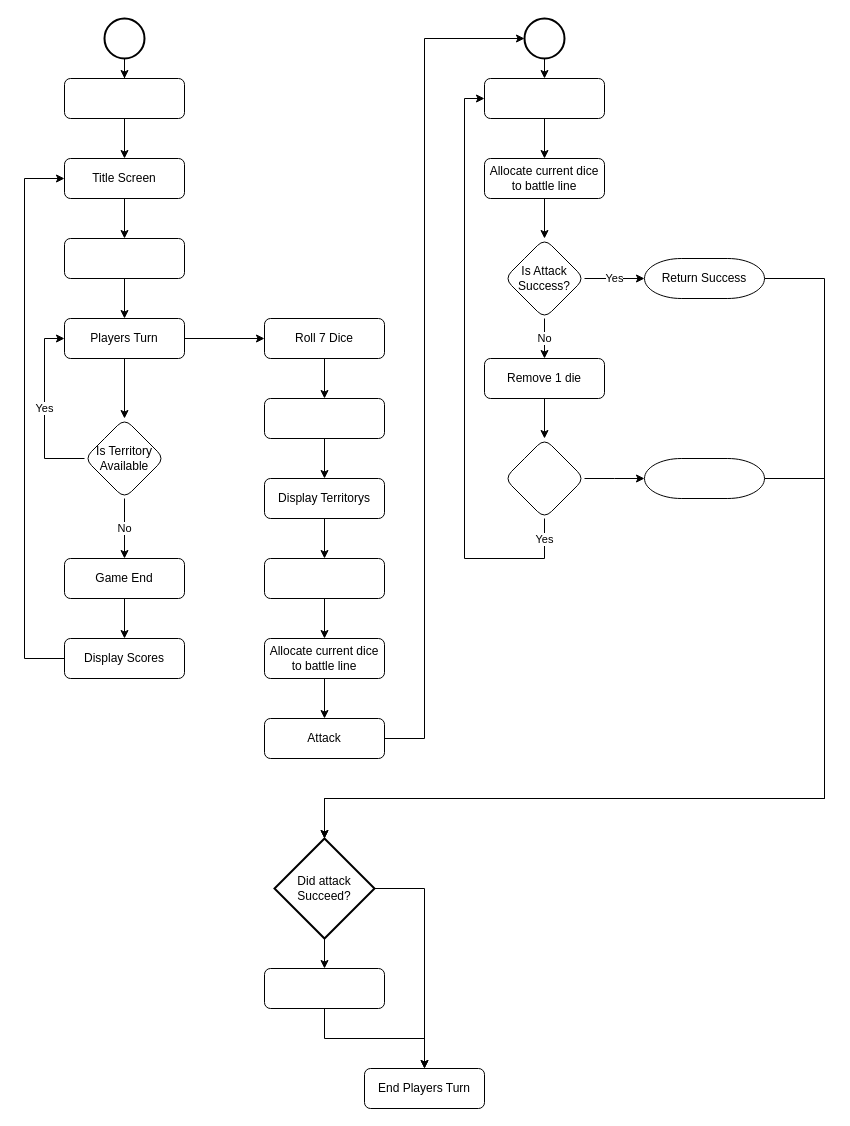
Image size: 850x1126. Some labels were removed from this diagram. Here are the shapes that lost their labels. From the top down, the centre of each, then its label:
At point (124, 98): "Init Game variables".
At point (544, 98): "Roll remaining dice".
At point (124, 258): "Create 2-6 players".
At point (324, 418): "Display Dice Result".
At point (544, 478): "Dice Left to fill a battle line?".
At point (704, 478): "Return Fail".
At point (324, 578): "Select Territory to invade".
At point (324, 988): "Update Player Territory".
